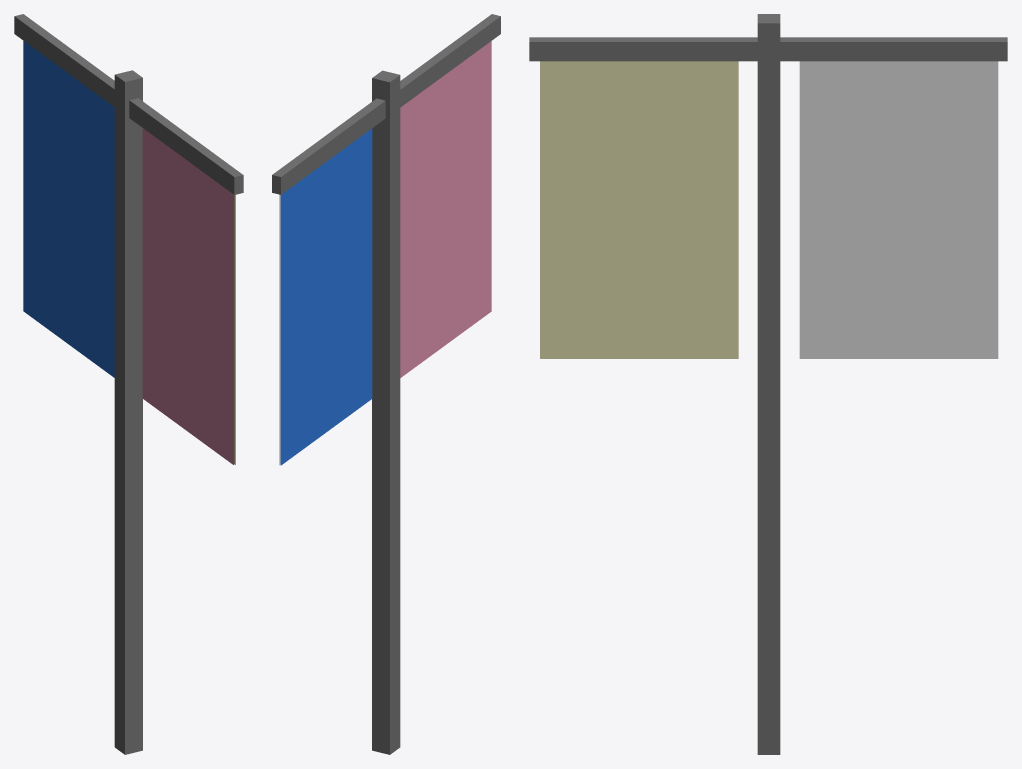
File: AdPoles.fbx
3 renders of one model, left to right at view 1: azimuth 30°, elevation 25°; view 2: azimuth 150°, elevation 25°; view 3: azimuth 270°, elevation 25°, orthographic. The views are drawn at different scales.
Visible parts, largest first — view 1: Plane.003; view 2: Plane.003; view 3: Plane.003.
Part boxes in pixels (<box>): Plane.003: <box>14,14,243,754</box>; Plane.003: <box>272,14,500,754</box>; Plane.003: <box>529,14,1007,754</box>.
Size of the model in its own units: 74.65 by 2685 by 1591.
